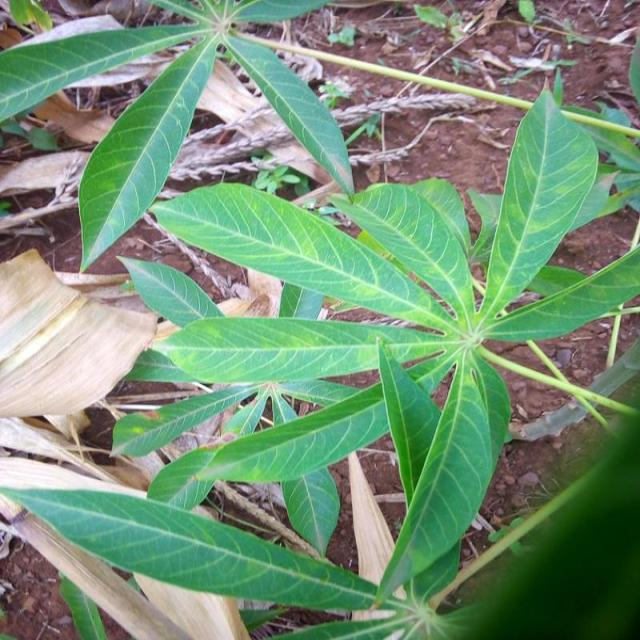cassava leaf: (0, 483, 379, 612), (148, 180, 458, 332), (77, 28, 220, 274), (373, 347, 507, 609), (478, 82, 598, 322)
